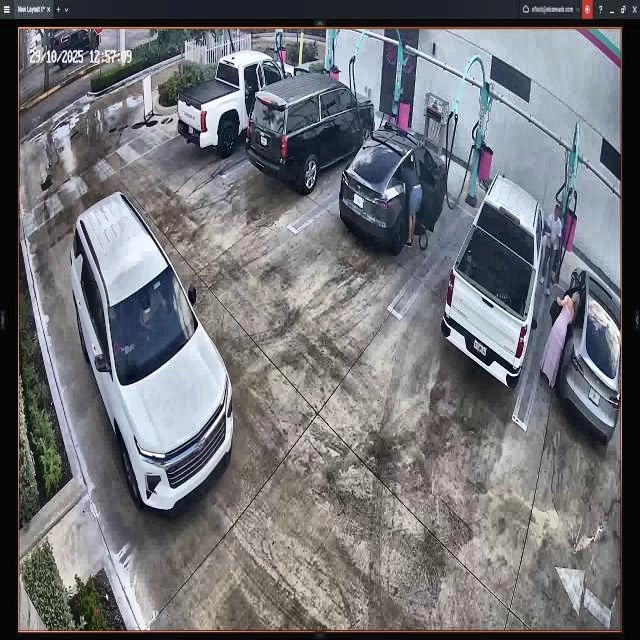Car: (69, 193, 236, 511), (440, 176, 550, 384), (245, 68, 374, 192), (342, 125, 446, 251), (176, 49, 296, 154)
